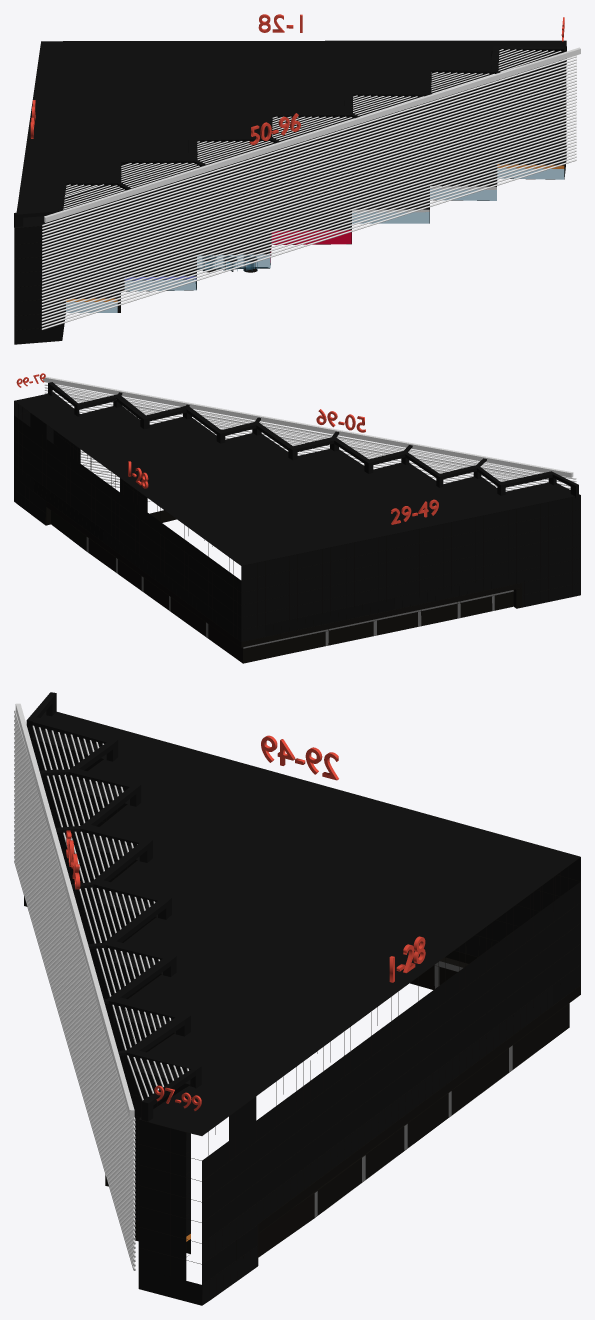
File: 6MoreLondonSite.glb
3 renders of one model, top to bottom at view 1: azimuth 30°, elevation 25°; view 2: azimuth 150°, elevation 25°; view 3: azimuth 270°, elevation 25°, orthographic. The views are drawn at different scales.
Visible parts, largest first — view 1: 6more.001, Fence, Cylinder.002, Roof, Fence1, 6more, Drop51, Drop50, Drop84, Drop77, Drop76, Drop75 (+24 smaller); view 2: 6more.001, 6more, Roof, Cylinder.002, Fence, Fence1, Drop47, Drop48, Drop49, Drop46, Drop29, Drop30 (+45 smaller); view 3: 6more.001, Fence, Roof, 6more, Cylinder.002, Drop98, Fence1, Drop4, Drop97, Drop3, Drop2, Drop1 (+30 smaller).
Boxes of the visible parts, x1=… form: 6more.001: x1=14, y1=40, x2=566, y2=338; Fence: x1=41, y1=55, x2=576, y2=329; Cylinder.002: x1=63, y1=49, x2=561, y2=209; Roof: x1=14, y1=46, x2=564, y2=227; Fence1: x1=44, y1=47, x2=580, y2=222; 6more: x1=14, y1=40, x2=566, y2=344; Drop51: x1=30, y1=224, x2=62, y2=343; Drop50: x1=14, y1=227, x2=30, y2=344; Drop84: x1=410, y1=106, x2=429, y2=209; Drop77: x1=332, y1=127, x2=351, y2=229; Drop76: x1=311, y1=127, x2=331, y2=230; Drop75: x1=291, y1=128, x2=311, y2=230; 6more.001: x1=14, y1=392, x2=580, y2=663; 6more: x1=14, y1=393, x2=580, y2=663; Roof: x1=48, y1=382, x2=578, y2=497; Cylinder.002: x1=56, y1=384, x2=541, y2=481; Fence: x1=44, y1=384, x2=576, y2=491; Fence1: x1=43, y1=376, x2=573, y2=477; Drop47: x1=532, y1=502, x2=548, y2=605; Drop48: x1=548, y1=498, x2=564, y2=601; Drop49: x1=564, y1=495, x2=580, y2=598; Drop46: x1=516, y1=505, x2=532, y2=606; Drop29: x1=241, y1=563, x2=257, y2=641; Drop30: x1=257, y1=559, x2=273, y2=638; 6more.001: x1=24, y1=711, x2=580, y2=1305; Fence: x1=14, y1=710, x2=135, y2=1270; Roof: x1=26, y1=692, x2=201, y2=1121; 6more: x1=24, y1=712, x2=580, y2=1305; Cylinder.002: x1=32, y1=725, x2=188, y2=1100; Drop98: x1=154, y1=1124, x2=185, y2=1280; Fence1: x1=15, y1=703, x2=134, y2=1117; Drop4: x1=242, y1=1096, x2=257, y2=1275; Drop97: x1=138, y1=1119, x2=154, y2=1272; Drop3: x1=229, y1=1106, x2=243, y2=1285; Drop2: x1=215, y1=1141, x2=229, y2=1295; Drop1: x1=202, y1=1151, x2=216, y2=1305.
Size of the model in its own units: 53.1 by 12.82 by 29.7.
11 materials, 2 textured.
